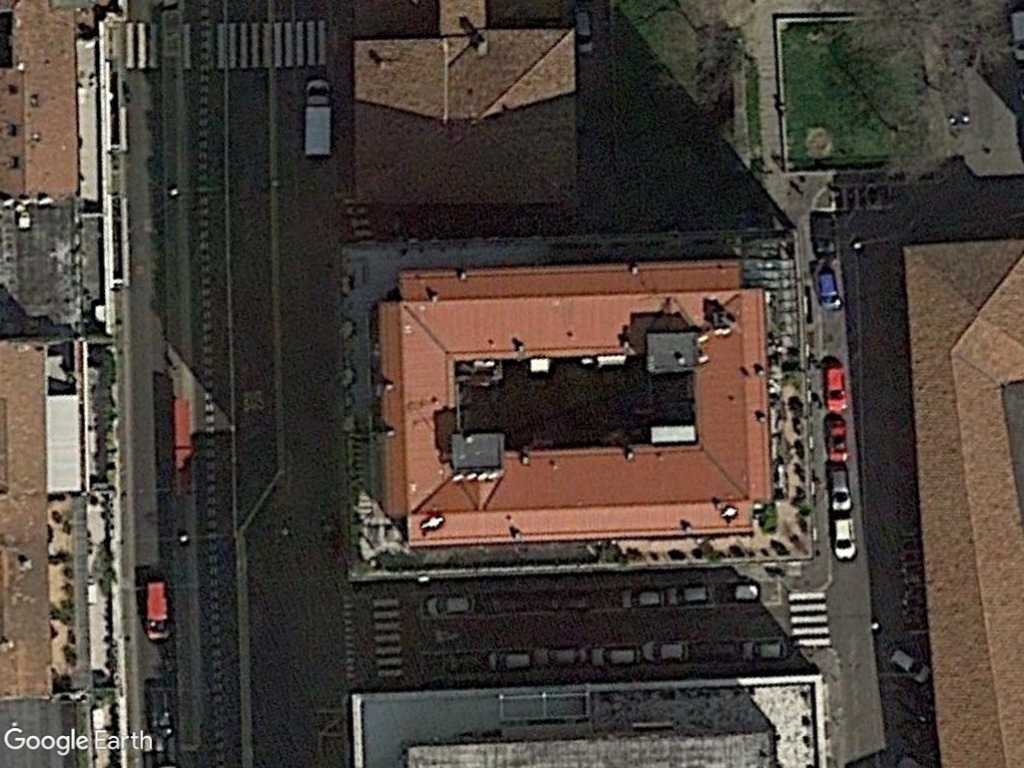car: (882, 641, 932, 687), (820, 413, 853, 467), (528, 644, 592, 671), (819, 362, 851, 413), (422, 592, 480, 620), (737, 634, 793, 663), (639, 637, 696, 665), (587, 641, 644, 669), (826, 462, 854, 516), (484, 648, 538, 676), (813, 266, 844, 314), (830, 513, 859, 562), (614, 586, 669, 611), (660, 583, 714, 608)
truck: (300, 76, 338, 163)
van: (136, 575, 175, 647)
